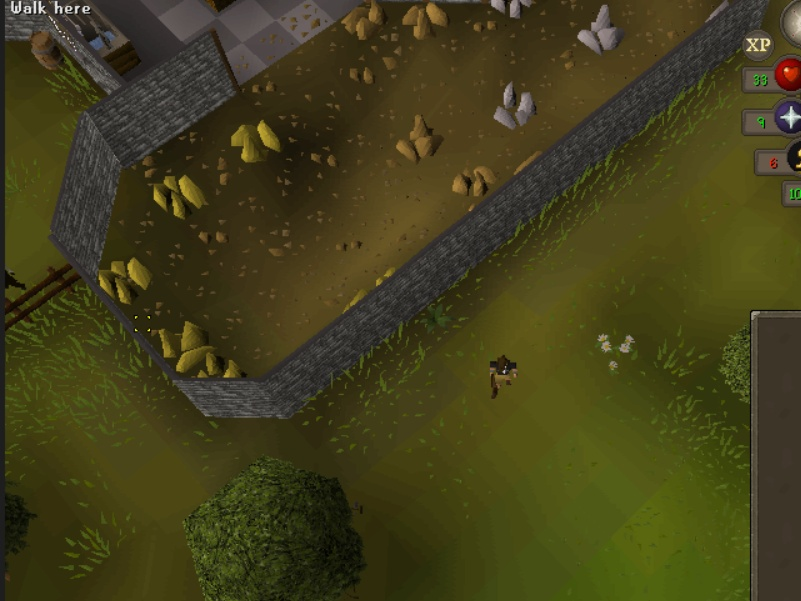clay: (394, 111, 447, 163), (449, 159, 503, 199), (397, 1, 451, 41), (339, 1, 393, 40)
gold: (222, 116, 289, 164), (91, 256, 158, 304), (146, 167, 213, 215), (158, 318, 205, 371), (195, 352, 254, 379)
silver: (492, 75, 542, 136), (578, 1, 628, 61), (487, 1, 541, 22)
